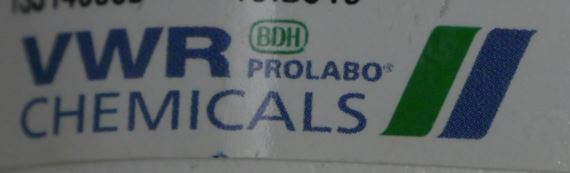VWR: (18, 17, 541, 143)
